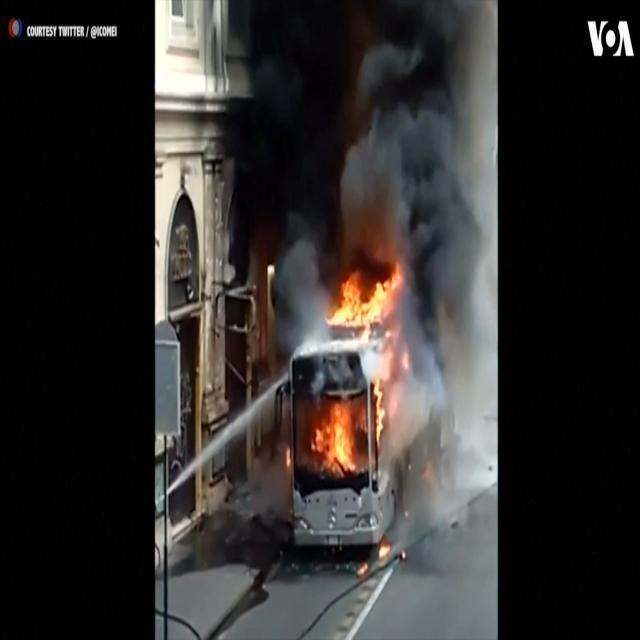fire: (308, 250, 408, 481)
